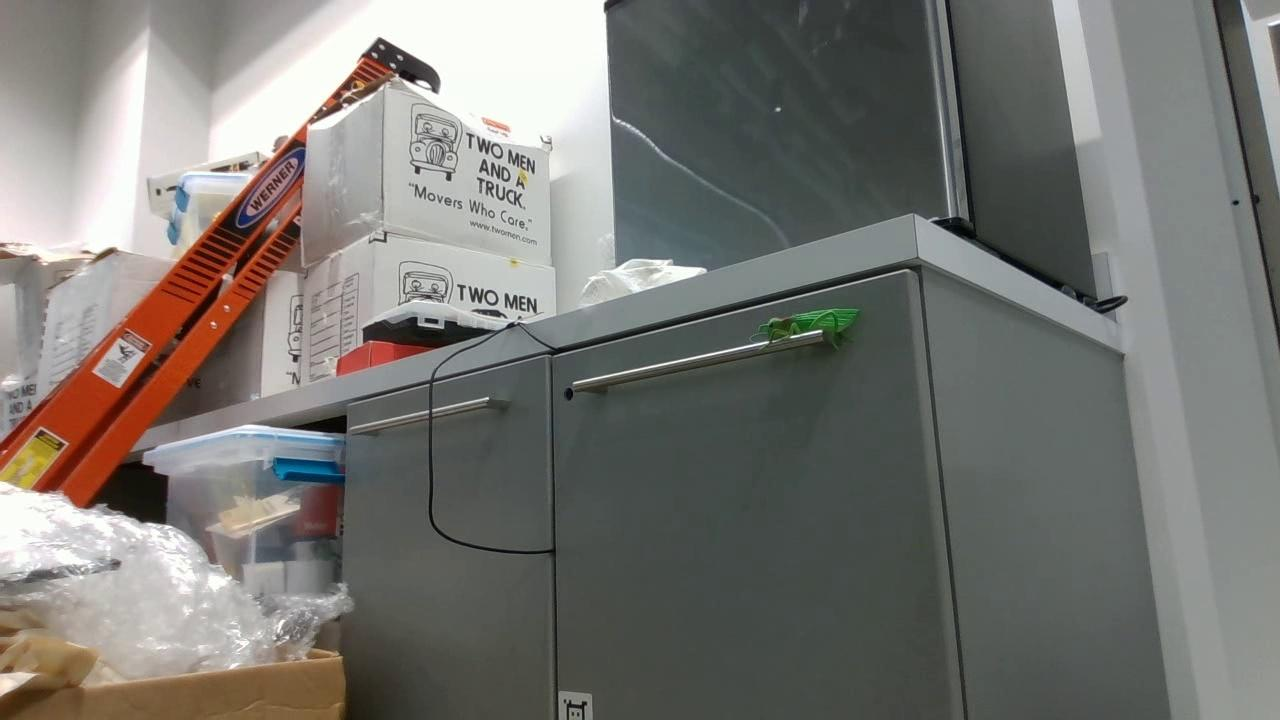grasshopper: (757, 301, 854, 358)
